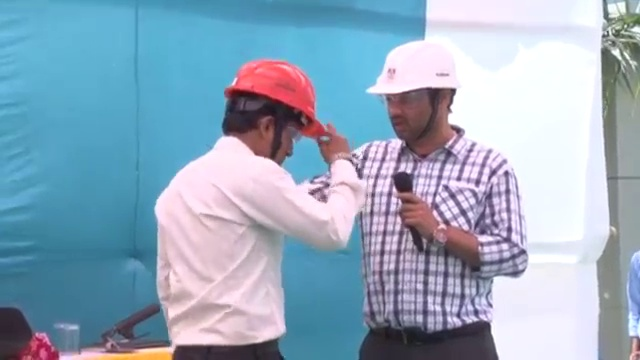helmet: (224, 56, 332, 139), (363, 38, 467, 94)
helmet_on: (223, 55, 331, 170), (363, 39, 468, 150)
person: (149, 56, 363, 360), (352, 39, 532, 360)
